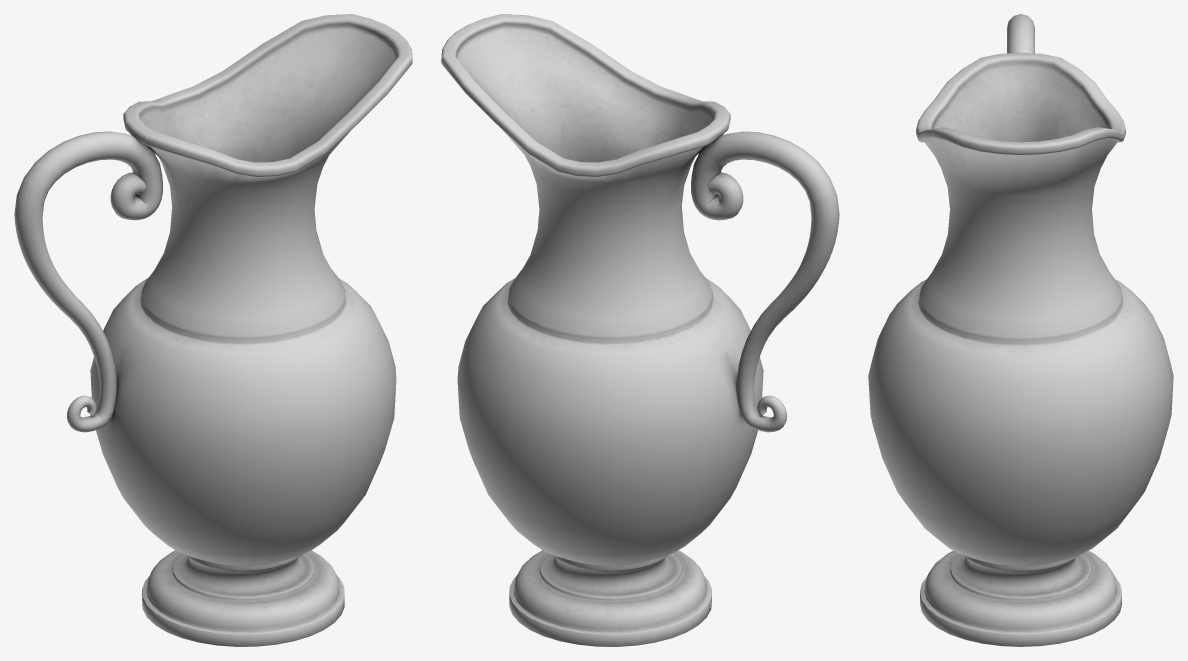
3 renders of one model, left to right at view 1: azimuth 30°, elevation 25°; view 2: azimuth 150°, elevation 25°; view 3: azimuth 270°, elevation 25°, orthographic.
Parts seen in each view (by area): view 1: YinQi_001; view 2: YinQi_001; view 3: YinQi_001.
Part boxes in pixels (box(x1,y1,x2,y2)): YinQi_001: box(14, 14, 412, 646); YinQi_001: box(441, 14, 839, 646); YinQi_001: box(868, 14, 1173, 646).
Bounding box in the file's own units: 4.35 × 5.82 × 3.02.
Materials: 1 (1 with a texture image).
